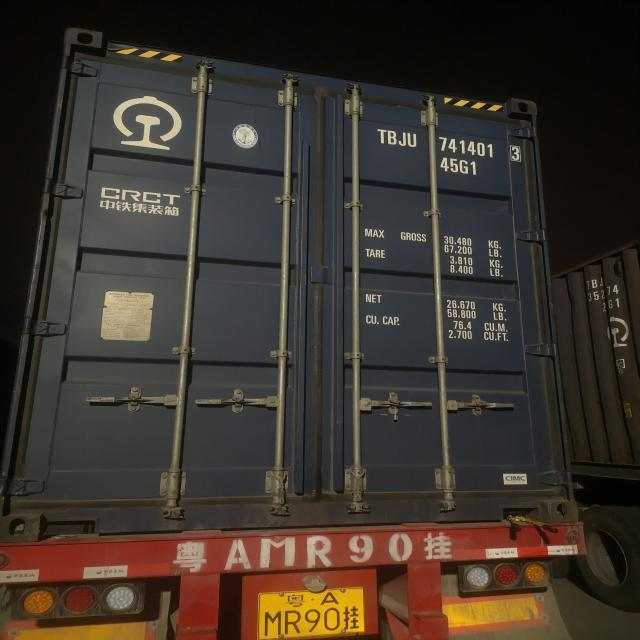ISO: (440, 156, 478, 176)
container_number: (382, 129, 526, 157)
